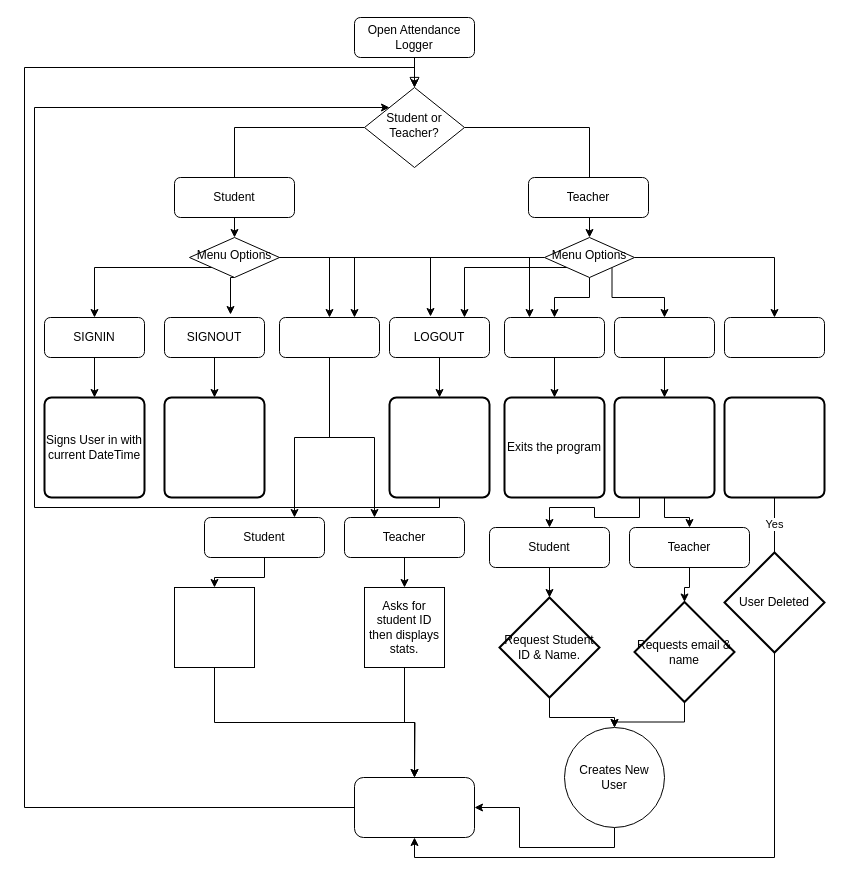
The diagram is 843 pixels wide and 883 high, and some of its shapes have lost their labels. Here are the shapes that lost their labels. From the top down, the box of each, then its label:
(278, 316, 380, 358): STATISTICS
(504, 316, 604, 358): EXIT
(614, 316, 714, 358): ADDUSER
(724, 316, 824, 358): DELUSER
(163, 396, 265, 498): Signs Out User with Current DateTime IF Signin Exists
(388, 396, 490, 498): Logs the active user out but leaves program running
(613, 396, 715, 498): Is this a teacher or student?
(723, 396, 825, 498): Are you sure you want to delete user?
(174, 586, 254, 668): Displays Statistics For Student
(354, 776, 474, 838): Back to Menu
